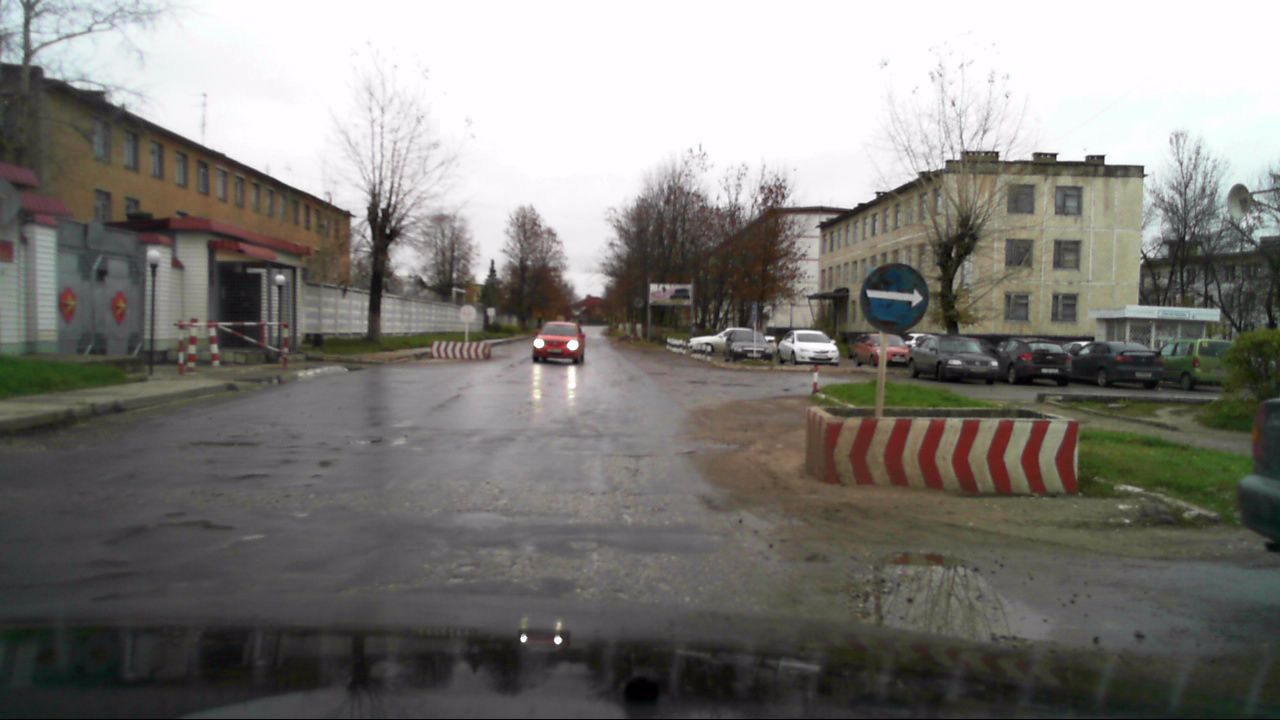Turn Right: (862, 263, 929, 334)
